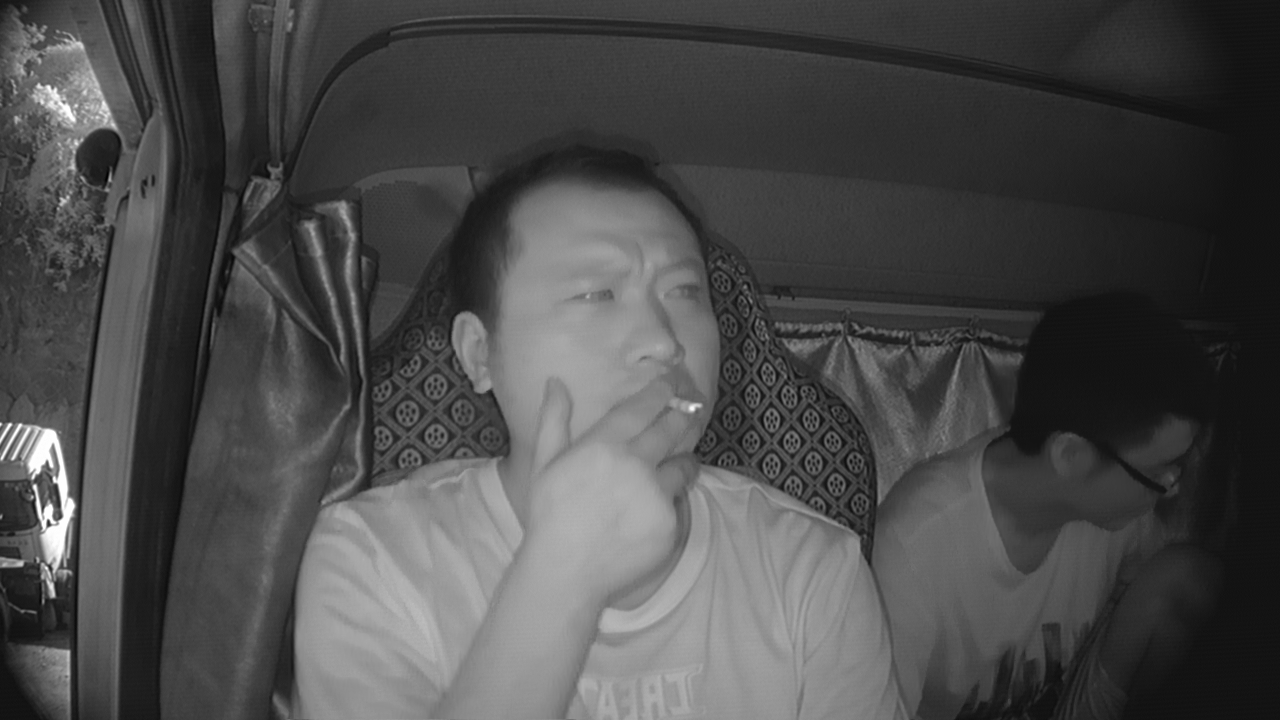hand: (587, 379, 714, 550)
